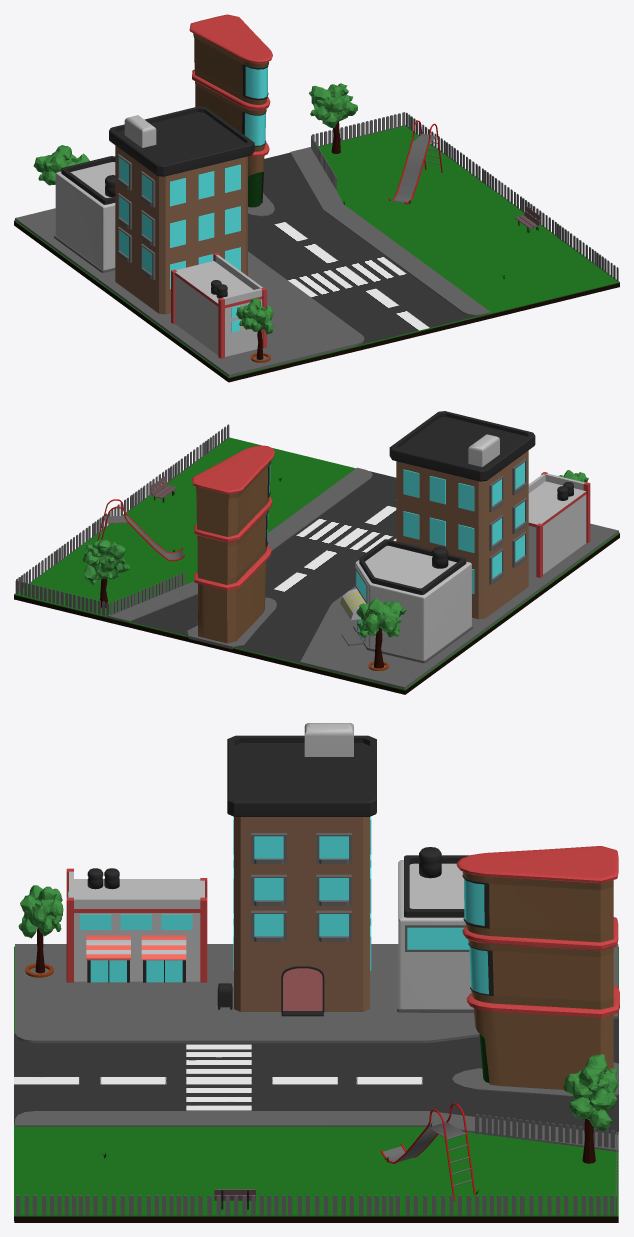
Rendered from CityScene.glb.
3 views of the same model, one above another, from view 1: azimuth 30°, elevation 25°; view 2: azimuth 150°, elevation 25°; view 3: azimuth 270°, elevation 25° (orthographic). The views are drawn at different scales.
Visible parts, largest first — view 1: Grass_block.6, City__Building_b.14, Road.4, Sidewalk_big.11, Fork_Building.5, City__Building_a.12, City__Building_c.13, Sidewalk_small.9, City__Fence.21, Tree2.18, Slide_.15, Tree1.19 (+1 smaller); view 2: City__Building_b.14, Grass_block.6, Road.4, Fork_Building.5, City__Building_c.13, Sidewalk_big.11, City__Building_a.12, City__Fence.21, Sidewalk_small.9, Tree4.17, Tree2.18, Slide_.15 (+1 smaller); view 3: Grass_block.6, City__Building_b.14, Road.4, Fork_Building.5, Sidewalk_big.11, City__Building_a.12, City__Building_c.13, City__Fence.21, Sidewalk_small.9, Tree2.18, Tree1.19, Slide_.15 (+1 smaller).
Boxes of the visible parts, box(x1,y1,x2,y2) form: Grass_block.6: box(14, 125, 619, 382); City__Building_b.14: box(109, 106, 254, 314); Road.4: box(248, 152, 487, 345); Sidewalk_big.11: box(15, 208, 364, 376); Fork_Building.5: box(189, 14, 272, 207); City__Building_a.12: box(171, 252, 272, 358); City__Building_c.13: box(54, 156, 115, 272); Sidewalk_small.9: box(290, 147, 490, 315); City__Fence.21: box(311, 112, 618, 281); Tree2.18: box(309, 83, 357, 153); Slide_.15: box(388, 120, 442, 204); Tree1.19: box(236, 298, 273, 359); City__Building_b.14: box(389, 411, 535, 619); Grass_block.6: box(14, 437, 619, 694); Road.4: box(108, 471, 396, 670); Fork_Building.5: box(192, 445, 274, 643); City__Building_c.13: box(340, 539, 473, 663); Sidewalk_big.11: box(300, 523, 618, 689); City__Building_a.12: box(528, 472, 590, 577); City__Fence.21: box(15, 424, 229, 616); Sidewalk_small.9: box(107, 467, 372, 622); Tree4.17: box(356, 598, 406, 668); Tree2.18: box(83, 539, 129, 607); Slide_.15: box(97, 499, 184, 561); Grass_block.6: box(14, 946, 618, 1222); City__Building_b.14: box(227, 723, 376, 1016); Road.4: box(14, 1011, 618, 1150); Fork_Building.5: box(456, 846, 619, 1089); Sidewalk_big.11: box(15, 944, 618, 1043); City__Building_a.12: box(66, 868, 207, 982); City__Building_c.13: box(397, 847, 473, 1012); City__Fence.21: box(16, 1114, 616, 1215); Sidewalk_small.9: box(15, 1111, 618, 1151); Tree2.18: box(563, 1054, 618, 1163); Tree1.19: box(18, 885, 63, 973); Slide_.15: box(380, 1103, 475, 1200).
Bounding box in the file's own units: 24.82 × 10.5 × 23.63.
44 materials, 1 textured.
